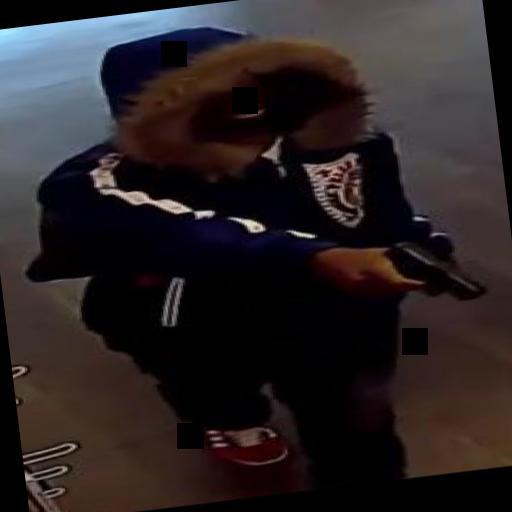Handgun: (354, 230, 480, 310)
